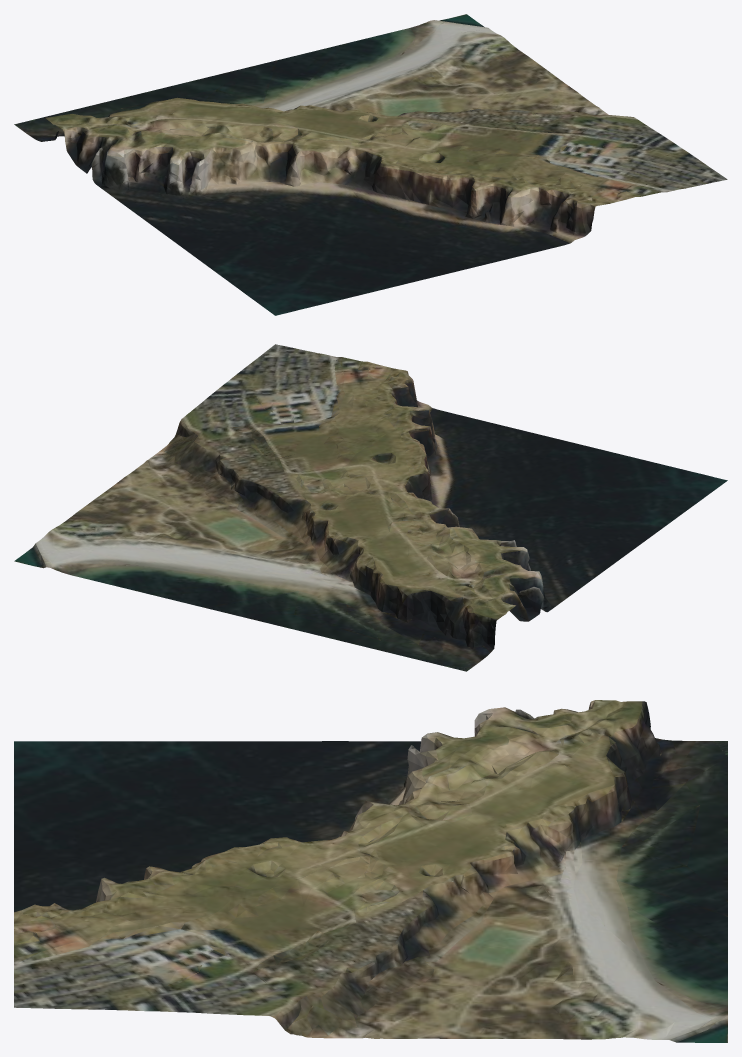
3 views of the same model, one above another, from view 1: azimuth 30°, elevation 25°; view 2: azimuth 150°, elevation 25°; view 3: azimuth 270°, elevation 25° (orthographic). The views are drawn at different scales.
Size of the model in its own units: 836 by 62.28 by 836.
Materials: 3 (3 with a texture image).
